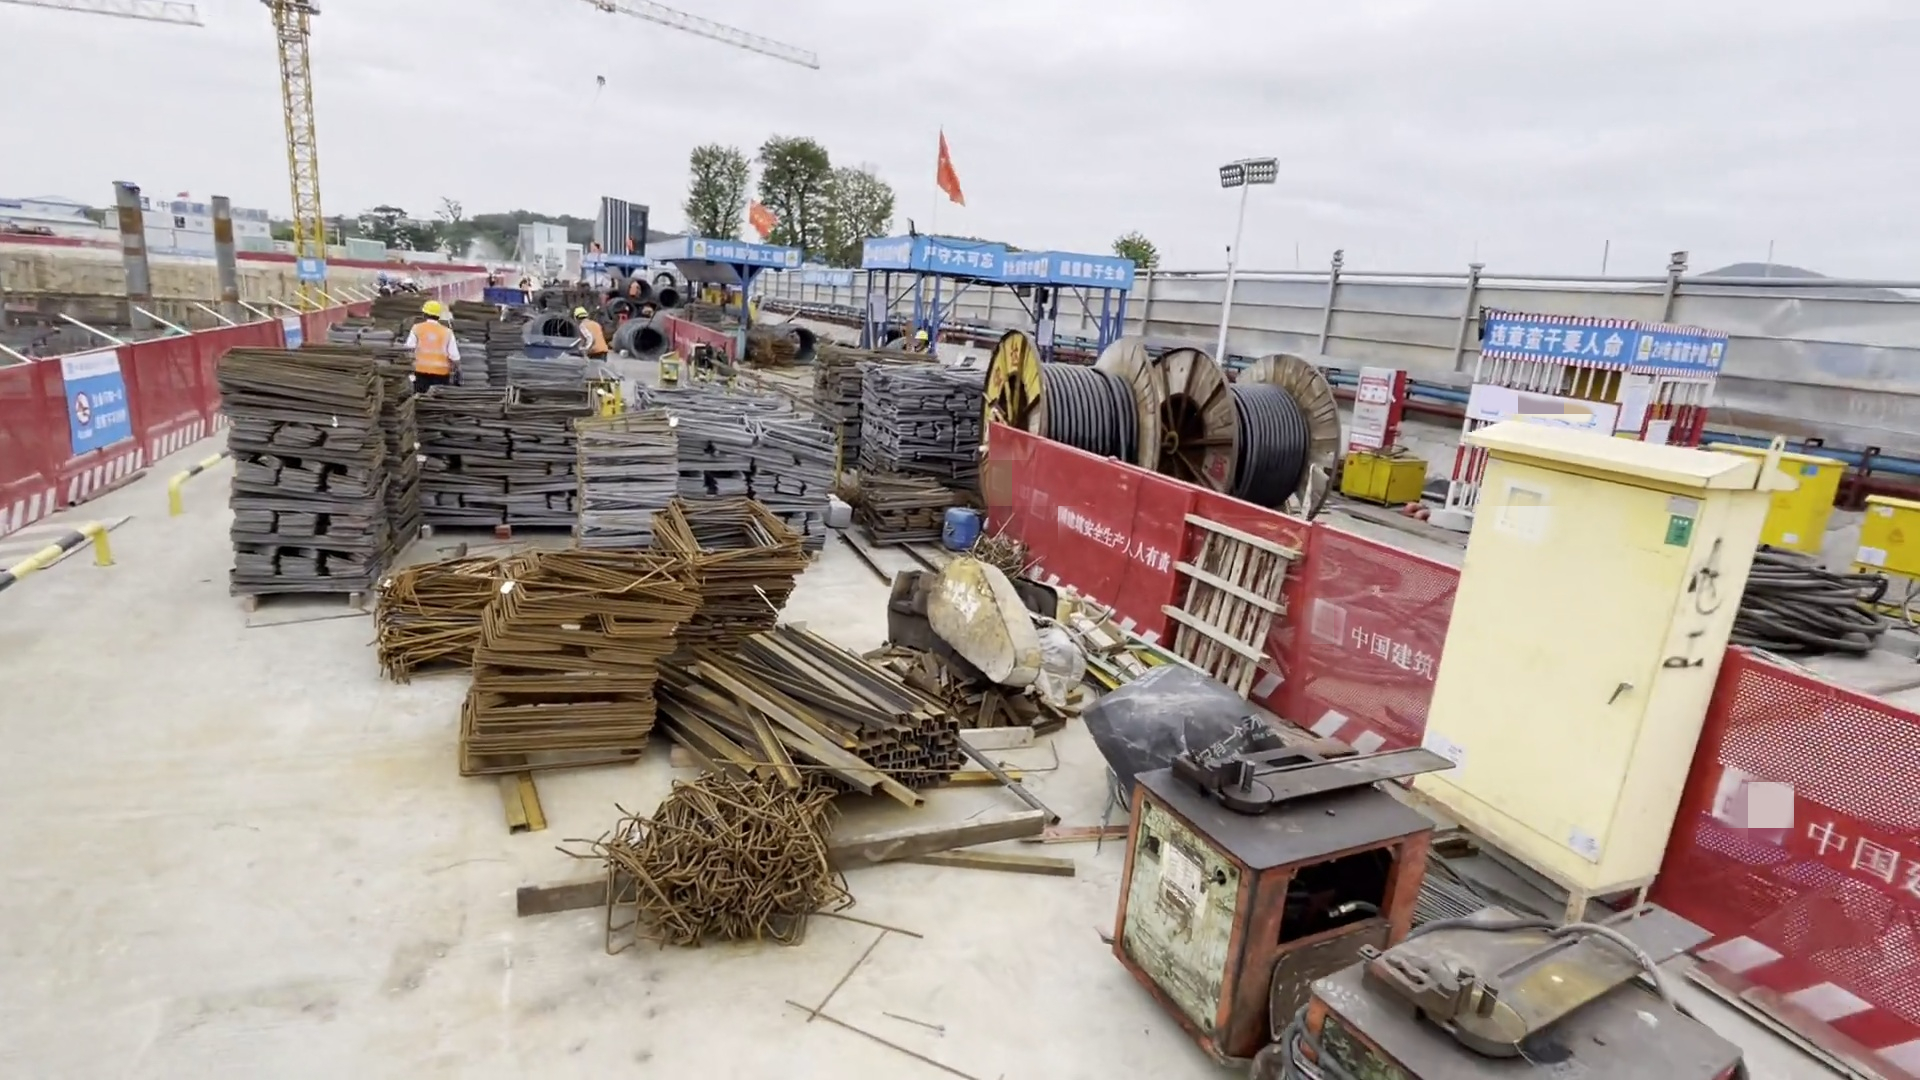ebox: (1408, 423, 1786, 927), (1759, 446, 1920, 586)
fence: (943, 417, 1438, 761), (1644, 651, 1920, 1057), (1, 323, 236, 525)
helmet: (422, 299, 444, 320), (572, 307, 589, 318), (915, 330, 929, 342)
person: (402, 305, 451, 390), (568, 305, 610, 373)
vest: (414, 319, 454, 379), (577, 320, 607, 355)
